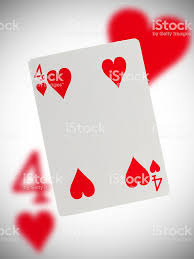four of hearts: (25, 38, 170, 219)
